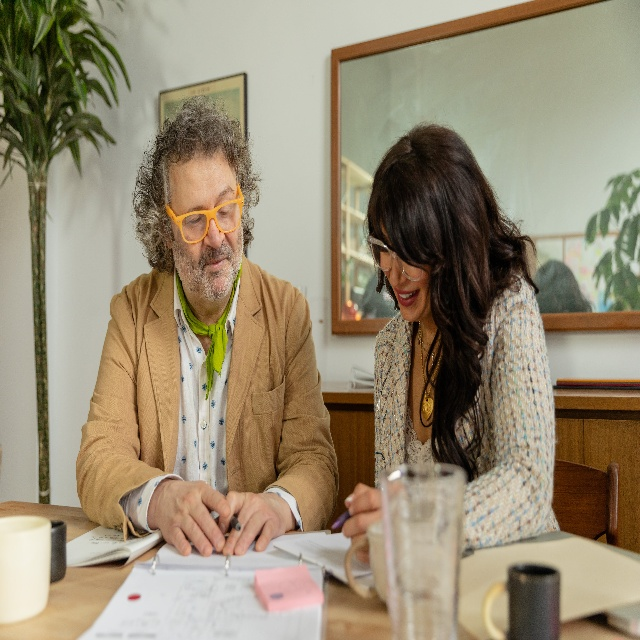Gafas: (164, 182, 244, 245), (367, 233, 422, 280)
Sin_guantes: (155, 480, 231, 558), (219, 488, 288, 559), (340, 481, 385, 568)
